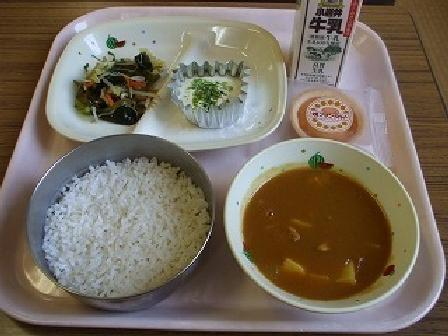Cup desserts: (168, 50, 255, 127)
Curry: (230, 152, 409, 311)
Milk: (289, 0, 368, 84)
Rice: (25, 134, 216, 308)
Salad: (63, 47, 162, 126)
